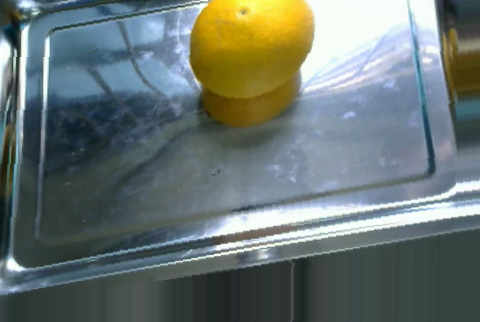Orange: (189, 1, 316, 99)
